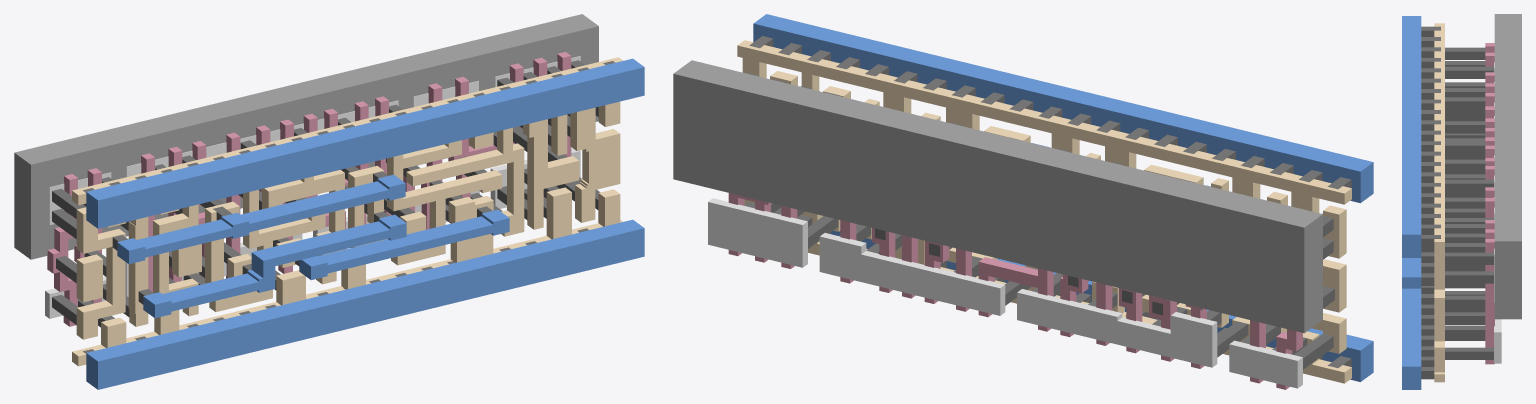
File: sky130_fd_sc_hd__dfstp_2.gds.gltf
The picture shows the model from 3 angles, left to right: view 1: azimuth 30°, elevation 25°; view 2: azimuth 150°, elevation 25°; view 3: azimuth 270°, elevation 25°; orthographic projection. The views are drawn at different scales.
Parts seen in each view (by area): view 1: sky130_fd_sc_hd__dfstp_2_met1, sky130_fd_sc_hd__dfstp_2_li1, sky130_fd_sc_hd__dfstp_2_nwell, sky130_fd_sc_hd__dfstp_2_poly, sky130_fd_sc_hd__dfstp_2_licon, sky130_fd_sc_hd__dfstp_2_diff, sky130_fd_sc_hd__dfstp_2_mcon; view 2: sky130_fd_sc_hd__dfstp_2_nwell, sky130_fd_sc_hd__dfstp_2_li1, sky130_fd_sc_hd__dfstp_2_diff, sky130_fd_sc_hd__dfstp_2_met1, sky130_fd_sc_hd__dfstp_2_poly, sky130_fd_sc_hd__dfstp_2_licon, sky130_fd_sc_hd__dfstp_2_mcon; view 3: sky130_fd_sc_hd__dfstp_2_licon, sky130_fd_sc_hd__dfstp_2_nwell, sky130_fd_sc_hd__dfstp_2_met1, sky130_fd_sc_hd__dfstp_2_mcon, sky130_fd_sc_hd__dfstp_2_li1, sky130_fd_sc_hd__dfstp_2_poly, sky130_fd_sc_hd__dfstp_2_diff.
Part boxes in pixels (left/top/right/bottom): sky130_fd_sc_hd__dfstp_2_met1: left=86, top=58, right=644, bottom=389; sky130_fd_sc_hd__dfstp_2_li1: left=72, top=57, right=622, bottom=366; sky130_fd_sc_hd__dfstp_2_nwell: left=14, top=14, right=598, bottom=259; sky130_fd_sc_hd__dfstp_2_poly: left=47, top=52, right=571, bottom=326; sky130_fd_sc_hd__dfstp_2_licon: left=52, top=60, right=600, bottom=327; sky130_fd_sc_hd__dfstp_2_diff: left=45, top=56, right=580, bottom=318; sky130_fd_sc_hd__dfstp_2_mcon: left=83, top=61, right=614, bottom=353; sky130_fd_sc_hd__dfstp_2_nwell: left=673, top=60, right=1322, bottom=333; sky130_fd_sc_hd__dfstp_2_li1: left=737, top=40, right=1351, bottom=383; sky130_fd_sc_hd__dfstp_2_diff: left=708, top=198, right=1302, bottom=388; sky130_fd_sc_hd__dfstp_2_met1: left=753, top=14, right=1373, bottom=381; sky130_fd_sc_hd__dfstp_2_poly: left=728, top=193, right=1302, bottom=389; sky130_fd_sc_hd__dfstp_2_licon: left=744, top=73, right=1334, bottom=369; sky130_fd_sc_hd__dfstp_2_mcon: left=749, top=36, right=1351, bottom=367; sky130_fd_sc_hd__dfstp_2_licon: left=1445, top=47, right=1493, bottom=359; sky130_fd_sc_hd__dfstp_2_nwell: left=1494, top=14, right=1521, bottom=319; sky130_fd_sc_hd__dfstp_2_met1: left=1402, top=16, right=1421, bottom=389; sky130_fd_sc_hd__dfstp_2_mcon: left=1421, top=26, right=1440, bottom=379; sky130_fd_sc_hd__dfstp_2_li1: left=1434, top=23, right=1444, bottom=382; sky130_fd_sc_hd__dfstp_2_poly: left=1485, top=43, right=1494, bottom=364; sky130_fd_sc_hd__dfstp_2_diff: left=1494, top=62, right=1501, bottom=363.
Bounding box in the file's own units: 10.04 × 3.2 × 2.24.
